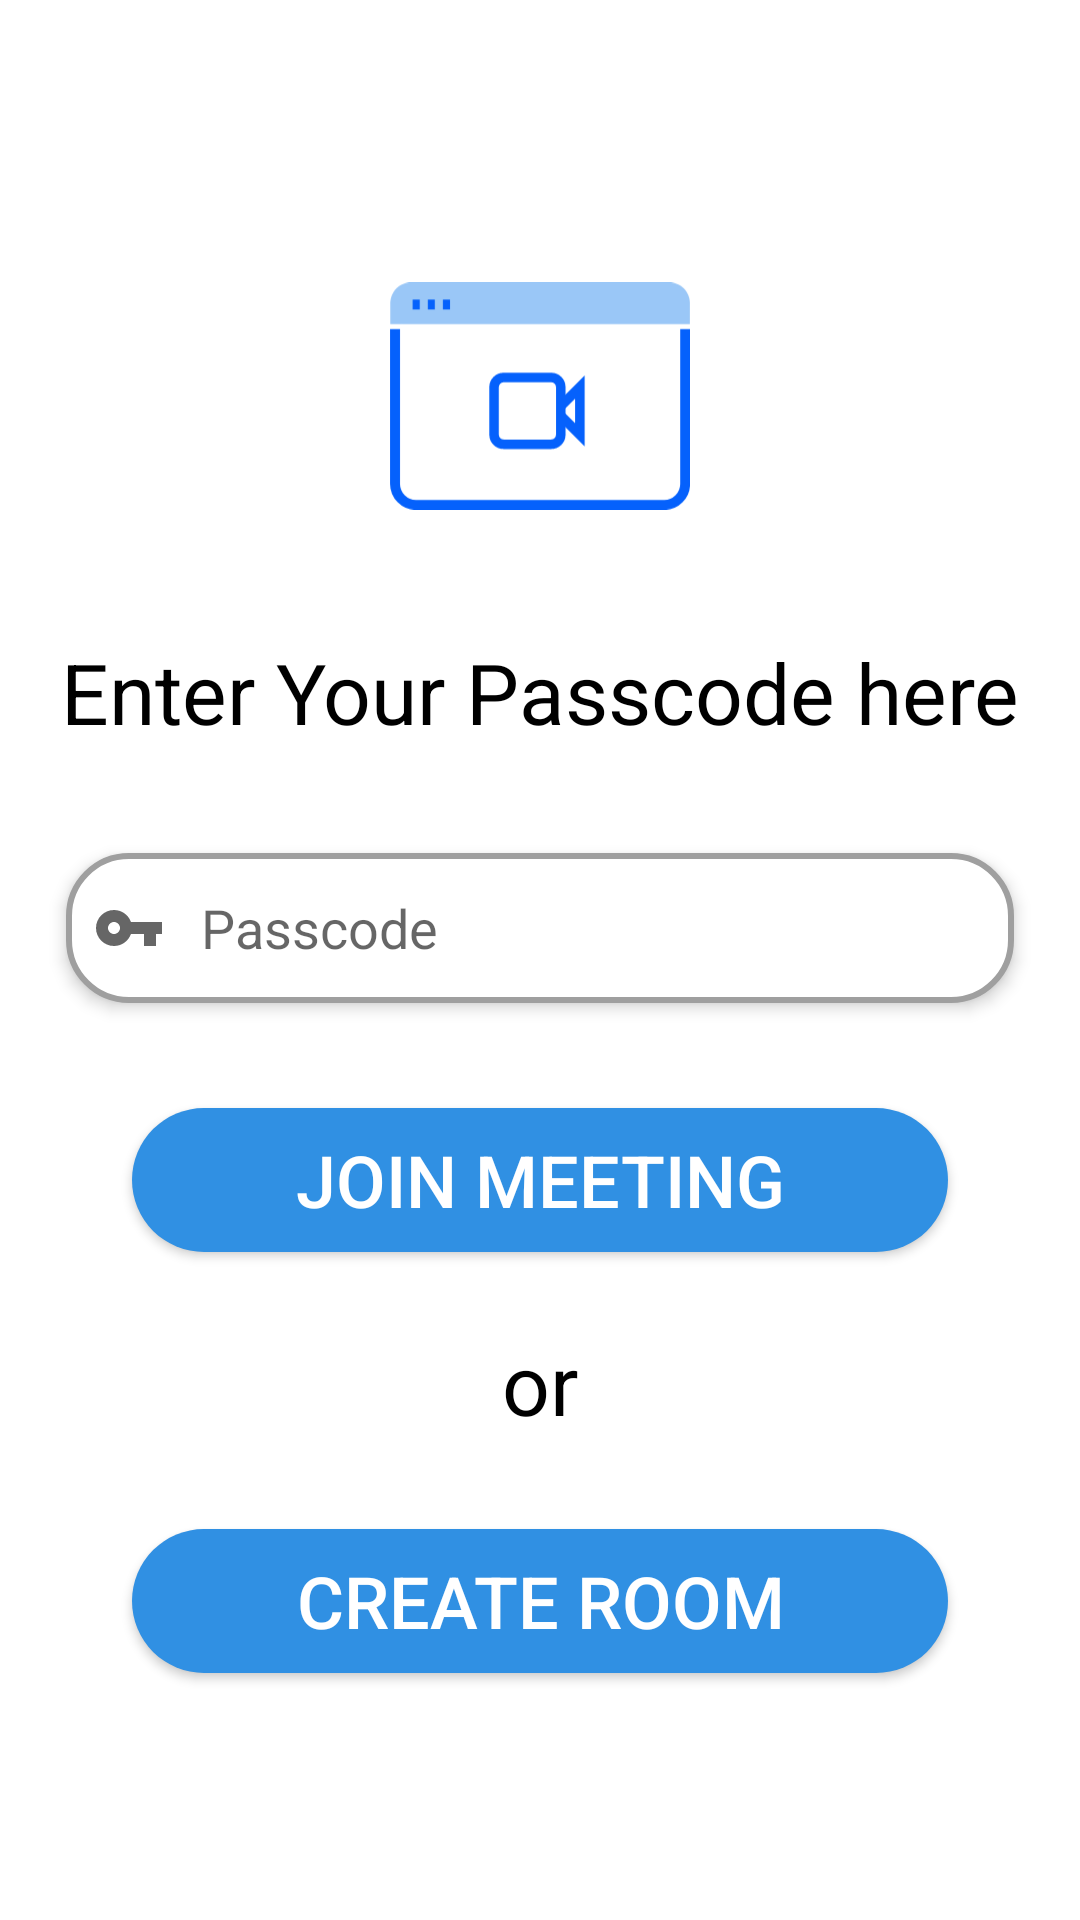

Named icons in this screenshot (1080w x 1920h) and their centers, (x=x, y=y):
zoomus: (x=540, y=396)
